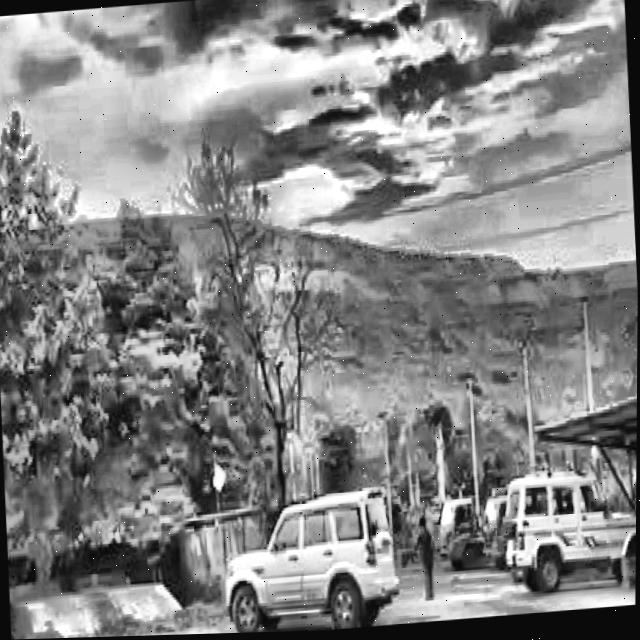light_vehicle: (220, 488, 400, 635)
